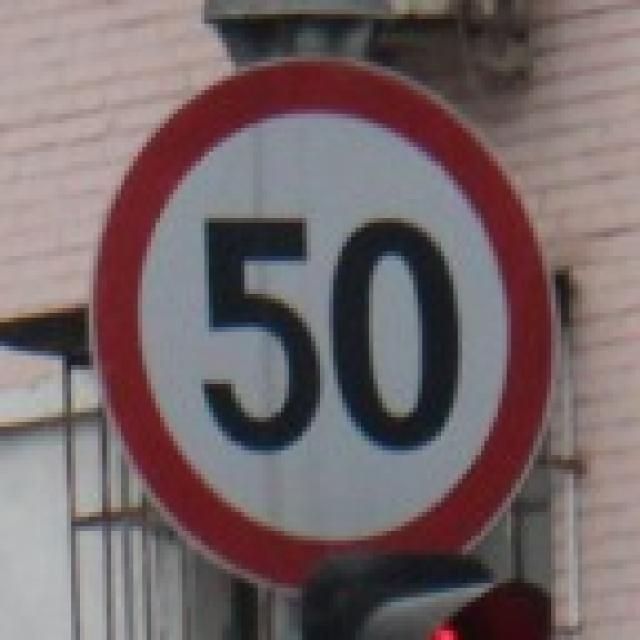Speed Limit -50-: (198, 216, 466, 455)
